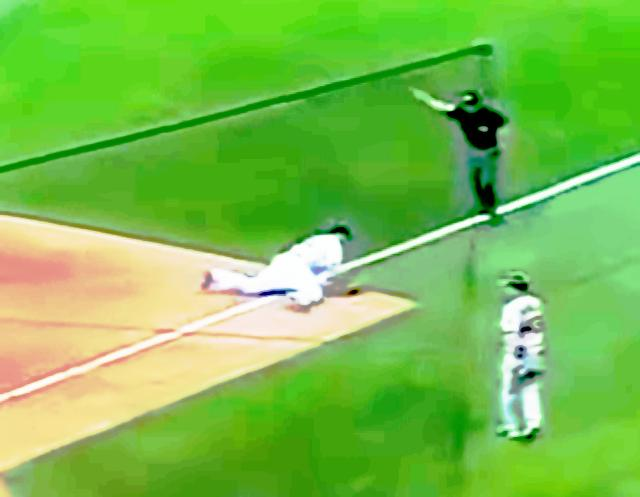jatuh: (193, 221, 365, 321)
